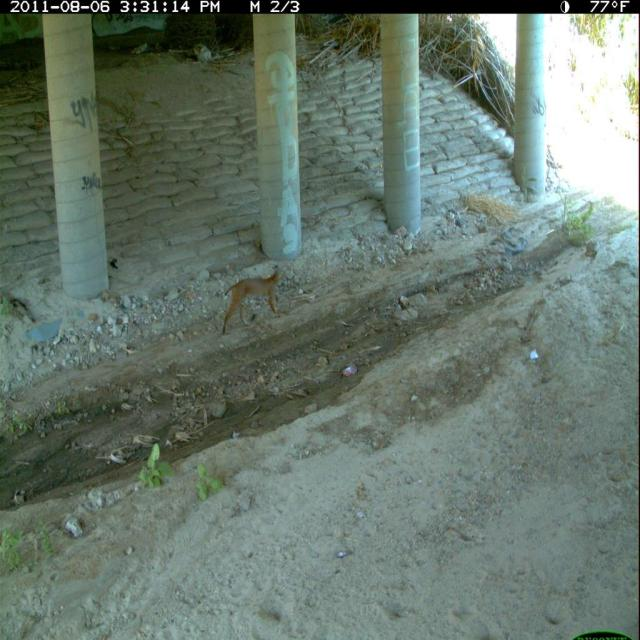bobcat: (219, 261, 291, 340)
